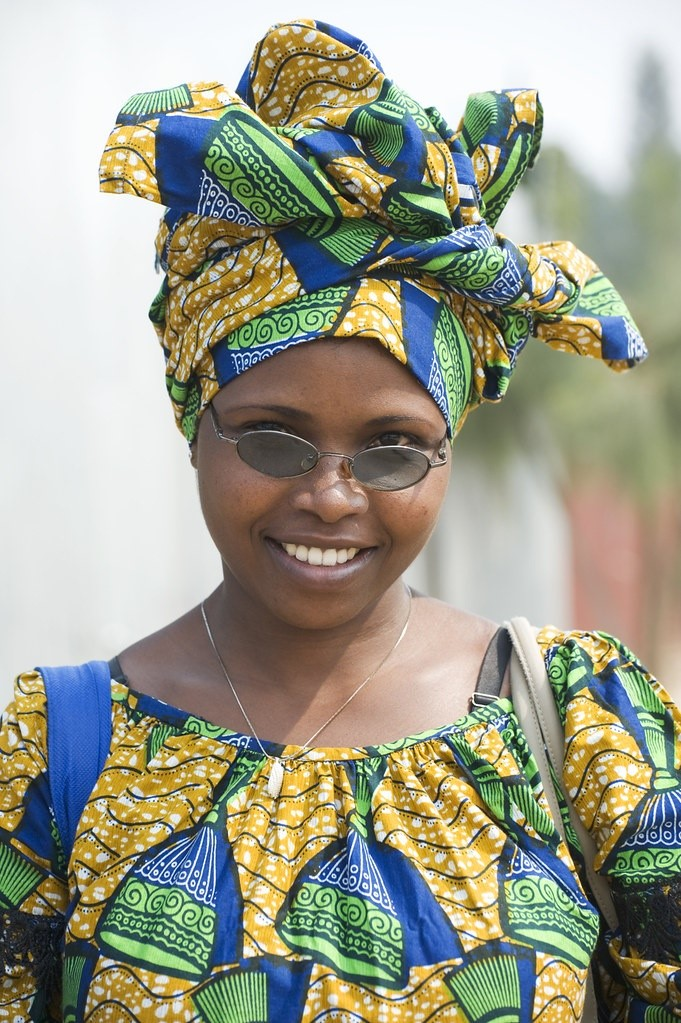face_no_mask: (175, 271, 451, 647)
